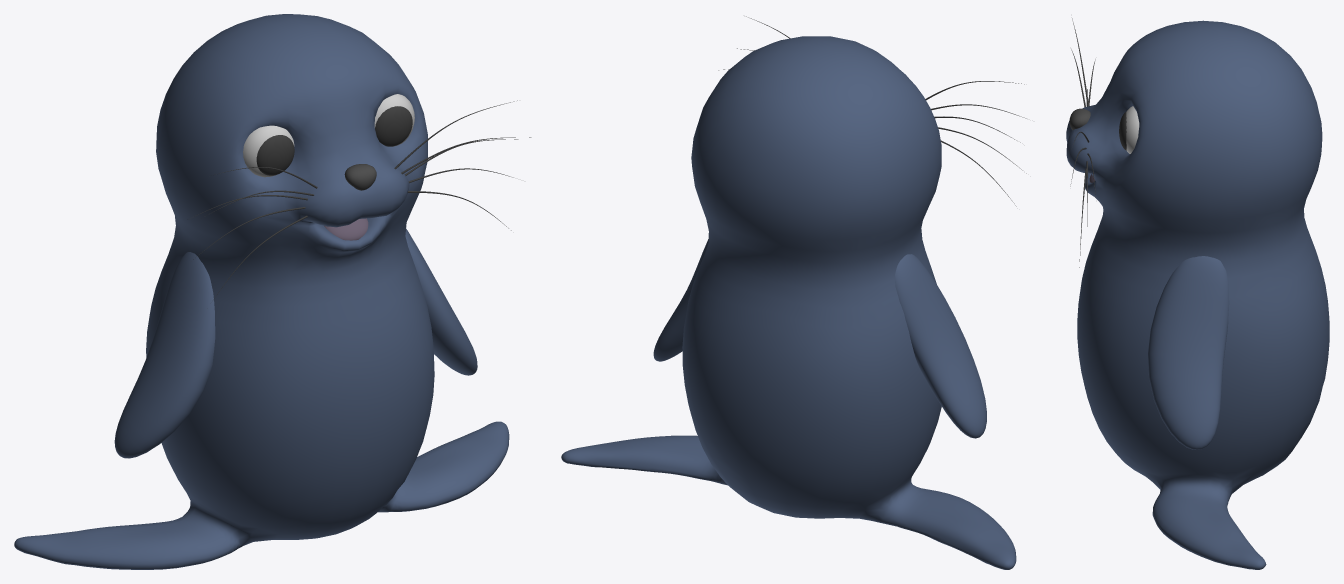
Rendered from FinalSeal.fbx.
The picture shows the model from 3 angles, left to right: view 1: azimuth 30°, elevation 25°; view 2: azimuth 150°, elevation 25°; view 3: azimuth 270°, elevation 25°; orthographic projection. The views are drawn at different scales.
Parts seen in each view (by area): view 1: Body.002, Pupils, Eyes, Nose; view 2: Body.002; view 3: Body.002, Eyes, Nose.
Part boxes in pixels (box(x1,y1,x2,y2)): Body.002: box(14, 14, 531, 569); Pupils: box(256, 106, 412, 175); Eyes: box(243, 94, 414, 177); Nose: box(344, 164, 376, 190); Body.002: box(561, 16, 1026, 569); Body.002: box(1066, 18, 1329, 569); Eyes: box(1126, 106, 1139, 153); Nose: box(1069, 108, 1090, 130).
Bounding box in the file's own units: 181 × 173 × 94.77.
